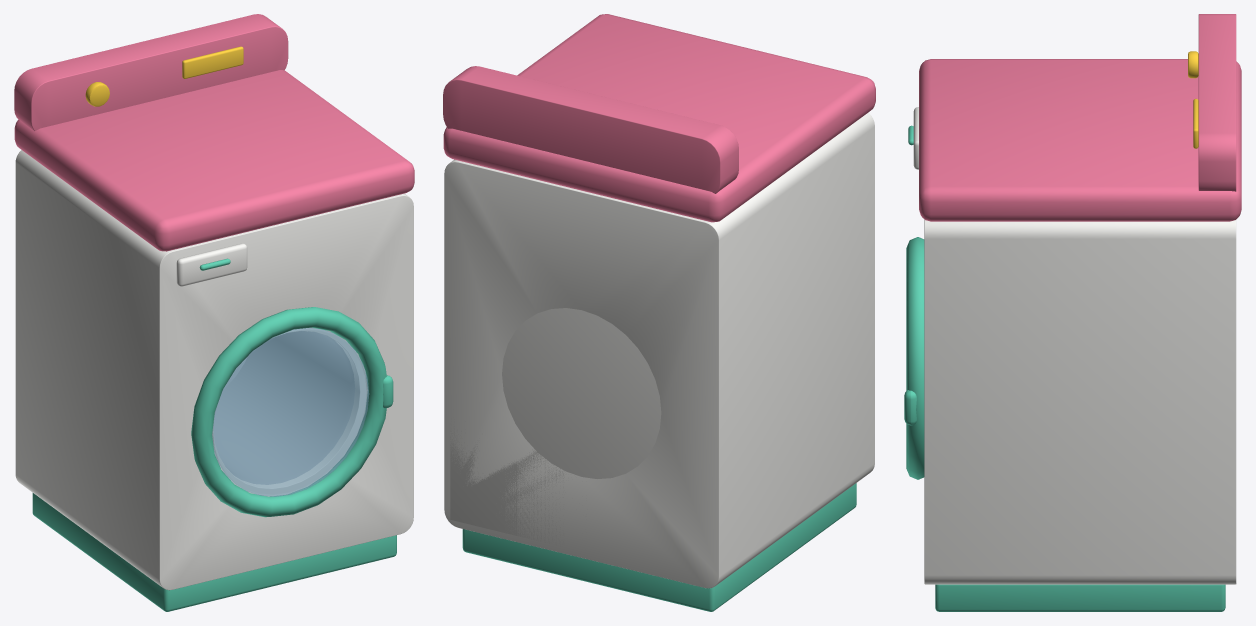
Rendered from maquina_lavar_modulo_verde_rosa.glb.
3 renders of one model, left to right at view 1: azimuth 30°, elevation 25°; view 2: azimuth 150°, elevation 25°; view 3: azimuth 270°, elevation 25°, orthographic. The views are drawn at different scales.
Visible parts, largest first — view 1: maquina_lavar_modulo_verde_rosa, porta_1, gaveta_1; view 2: maquina_lavar_modulo_verde_rosa; view 3: maquina_lavar_modulo_verde_rosa, porta_1, gaveta_1.
Part boxes in pixels (left/top/right/bottom): maquina_lavar_modulo_verde_rosa: left=14, top=14, right=414, bottom=611; porta_1: left=191, top=307, right=393, bottom=517; gaveta_1: left=176, top=243, right=247, bottom=286; maquina_lavar_modulo_verde_rosa: left=443, top=14, right=875, bottom=611; maquina_lavar_modulo_verde_rosa: left=919, top=14, right=1241, bottom=611; porta_1: left=904, top=237, right=924, bottom=479; gaveta_1: left=908, top=107, right=918, bottom=169.
Bounding box in the file's own units: 0.6 × 0.98 × 0.6275.
Materials: 2 (1 with a texture image).
